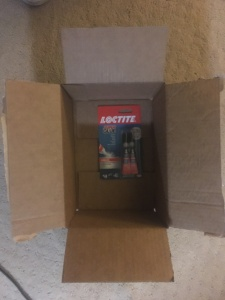innerbox: (62, 84, 168, 229)
outerbox: (8, 29, 225, 280)
product: (97, 105, 142, 179)
